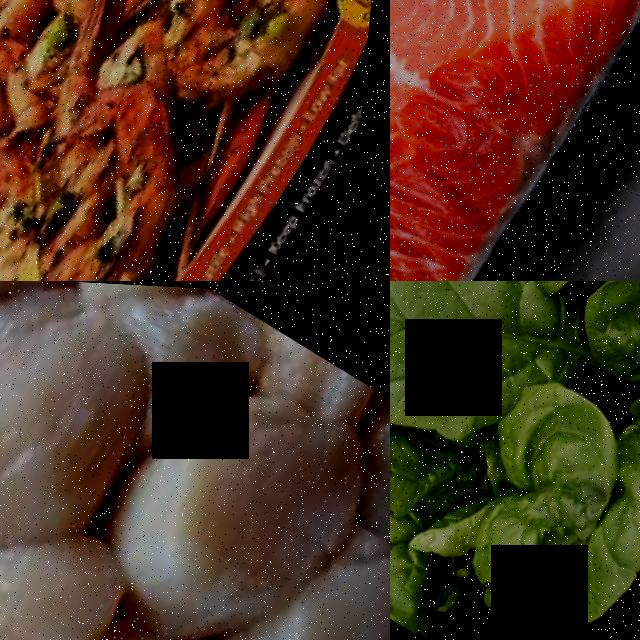salmon: (390, 0, 640, 281)
sea scallops: (82, 345, 390, 640), (0, 281, 186, 571), (223, 508, 390, 640)
spinach: (450, 367, 640, 605), (390, 281, 591, 472), (550, 441, 640, 632), (566, 281, 640, 396)
